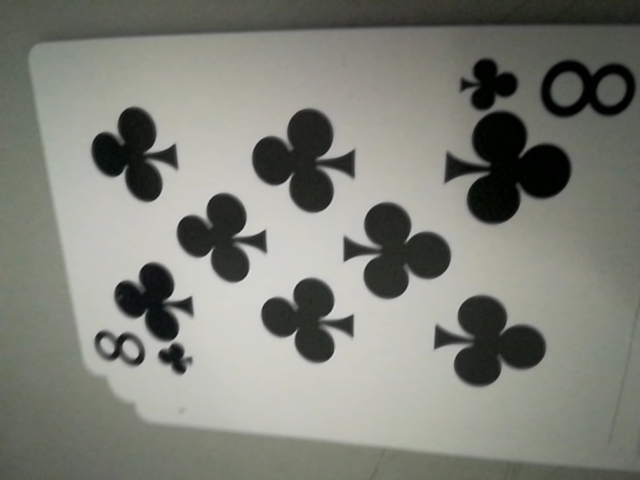mh 8: (457, 43, 637, 122), (89, 325, 193, 382)
